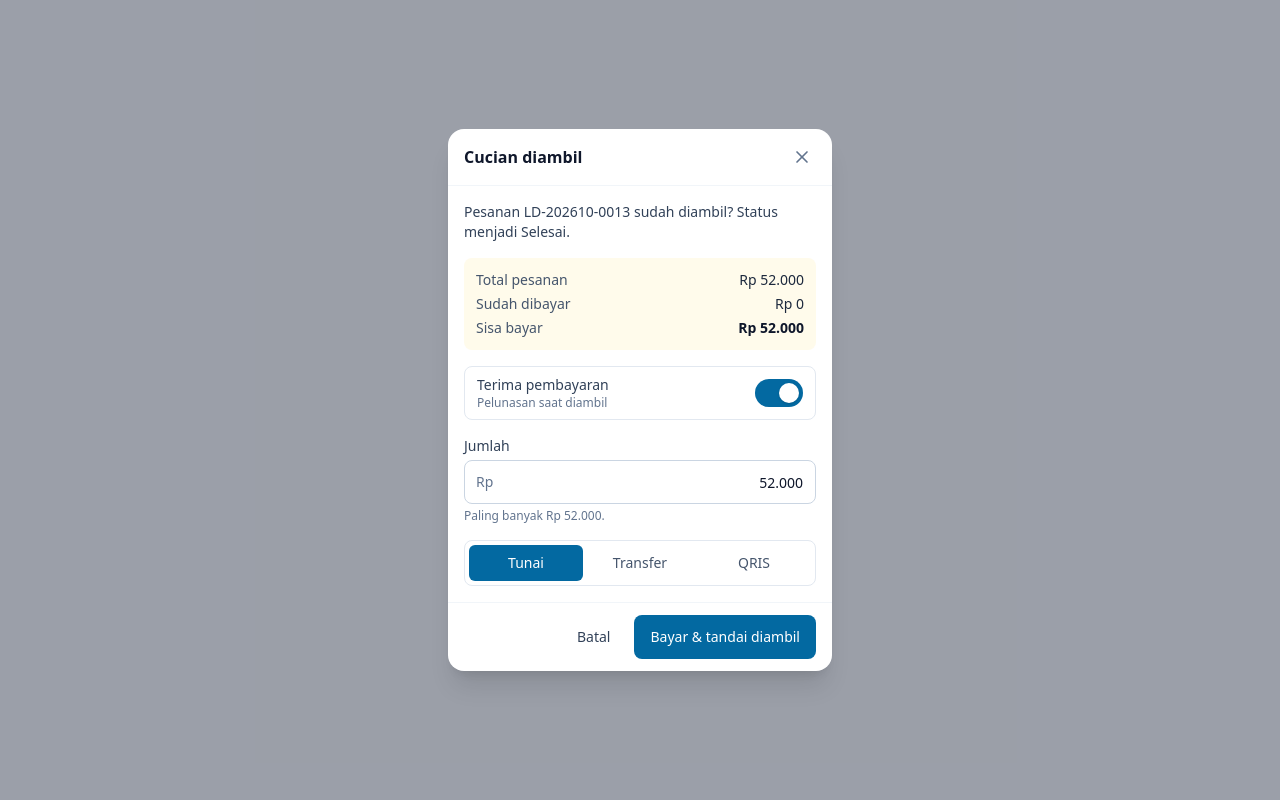
Test: PickupModal › after "payment saved, status failed" the retry only changes the status (no second payment)
Later steps or results of the test are not shown.
Replace the text in the field labelled "Jumlah" with "10.000" at (640, 482), box left=464, top=460, right=816, bottom=504
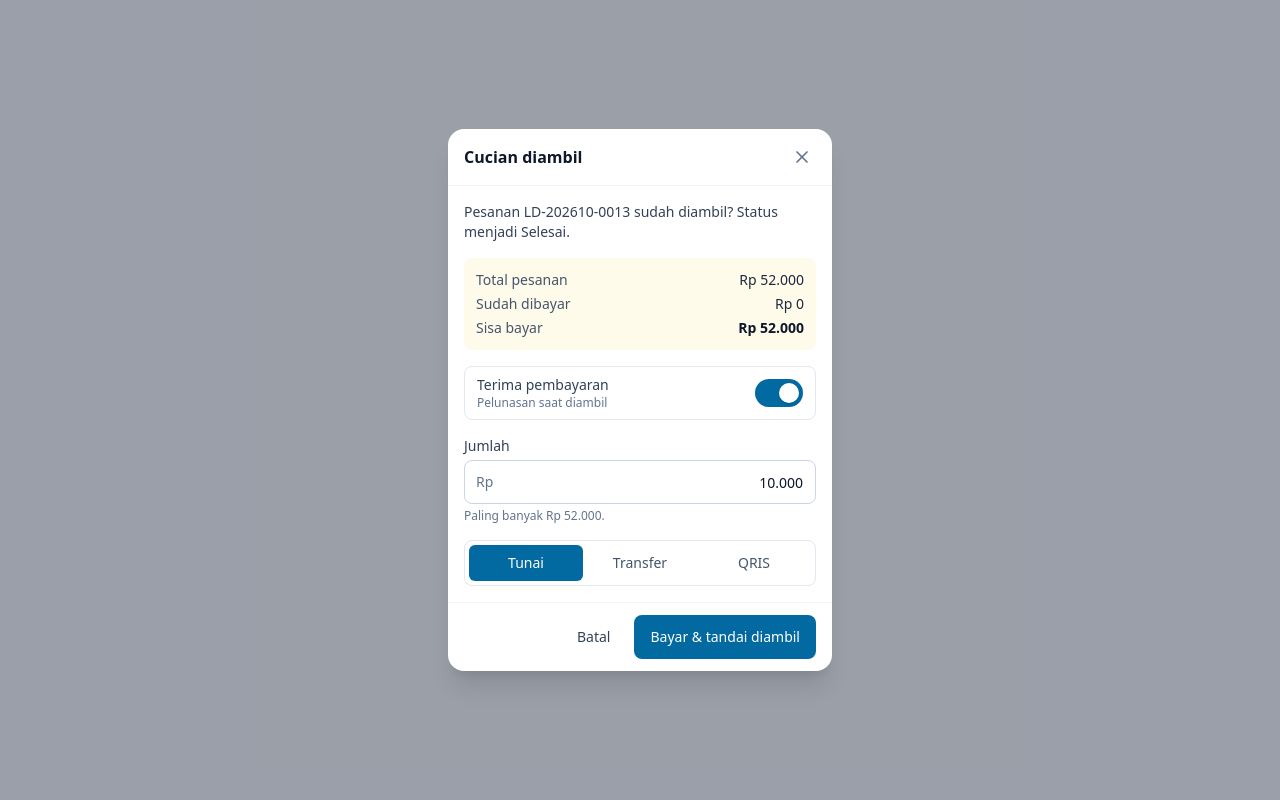
Click the button "Bayar & tandai diambil" at (725, 637), box left=634, top=615, right=816, bottom=659
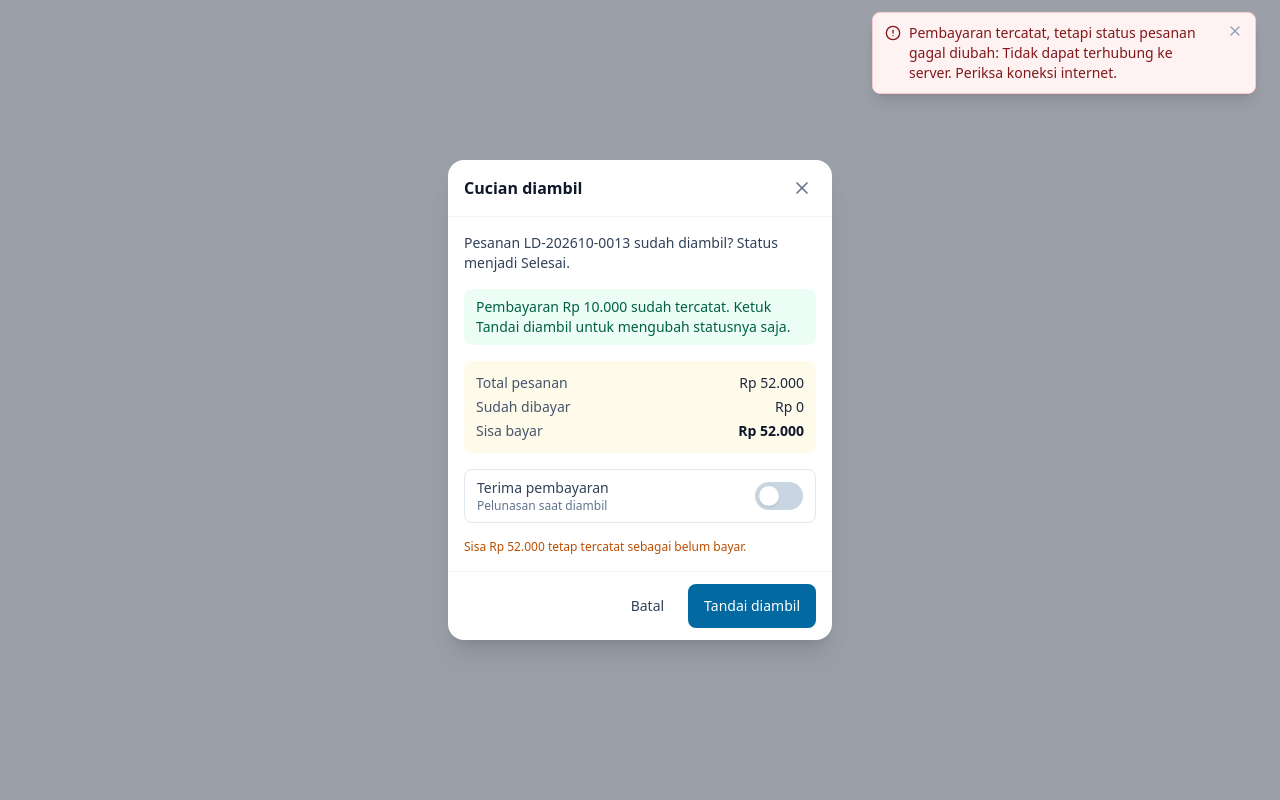
Expected: the text "Pembayaran tercatat, tetapi status pesanan gagal diubah" is shown, left=909, top=23, right=1196, bottom=82
